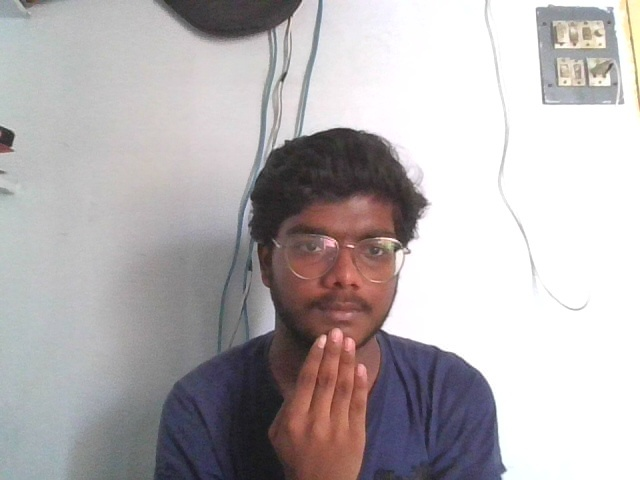Thanks: (266, 326, 370, 474)
